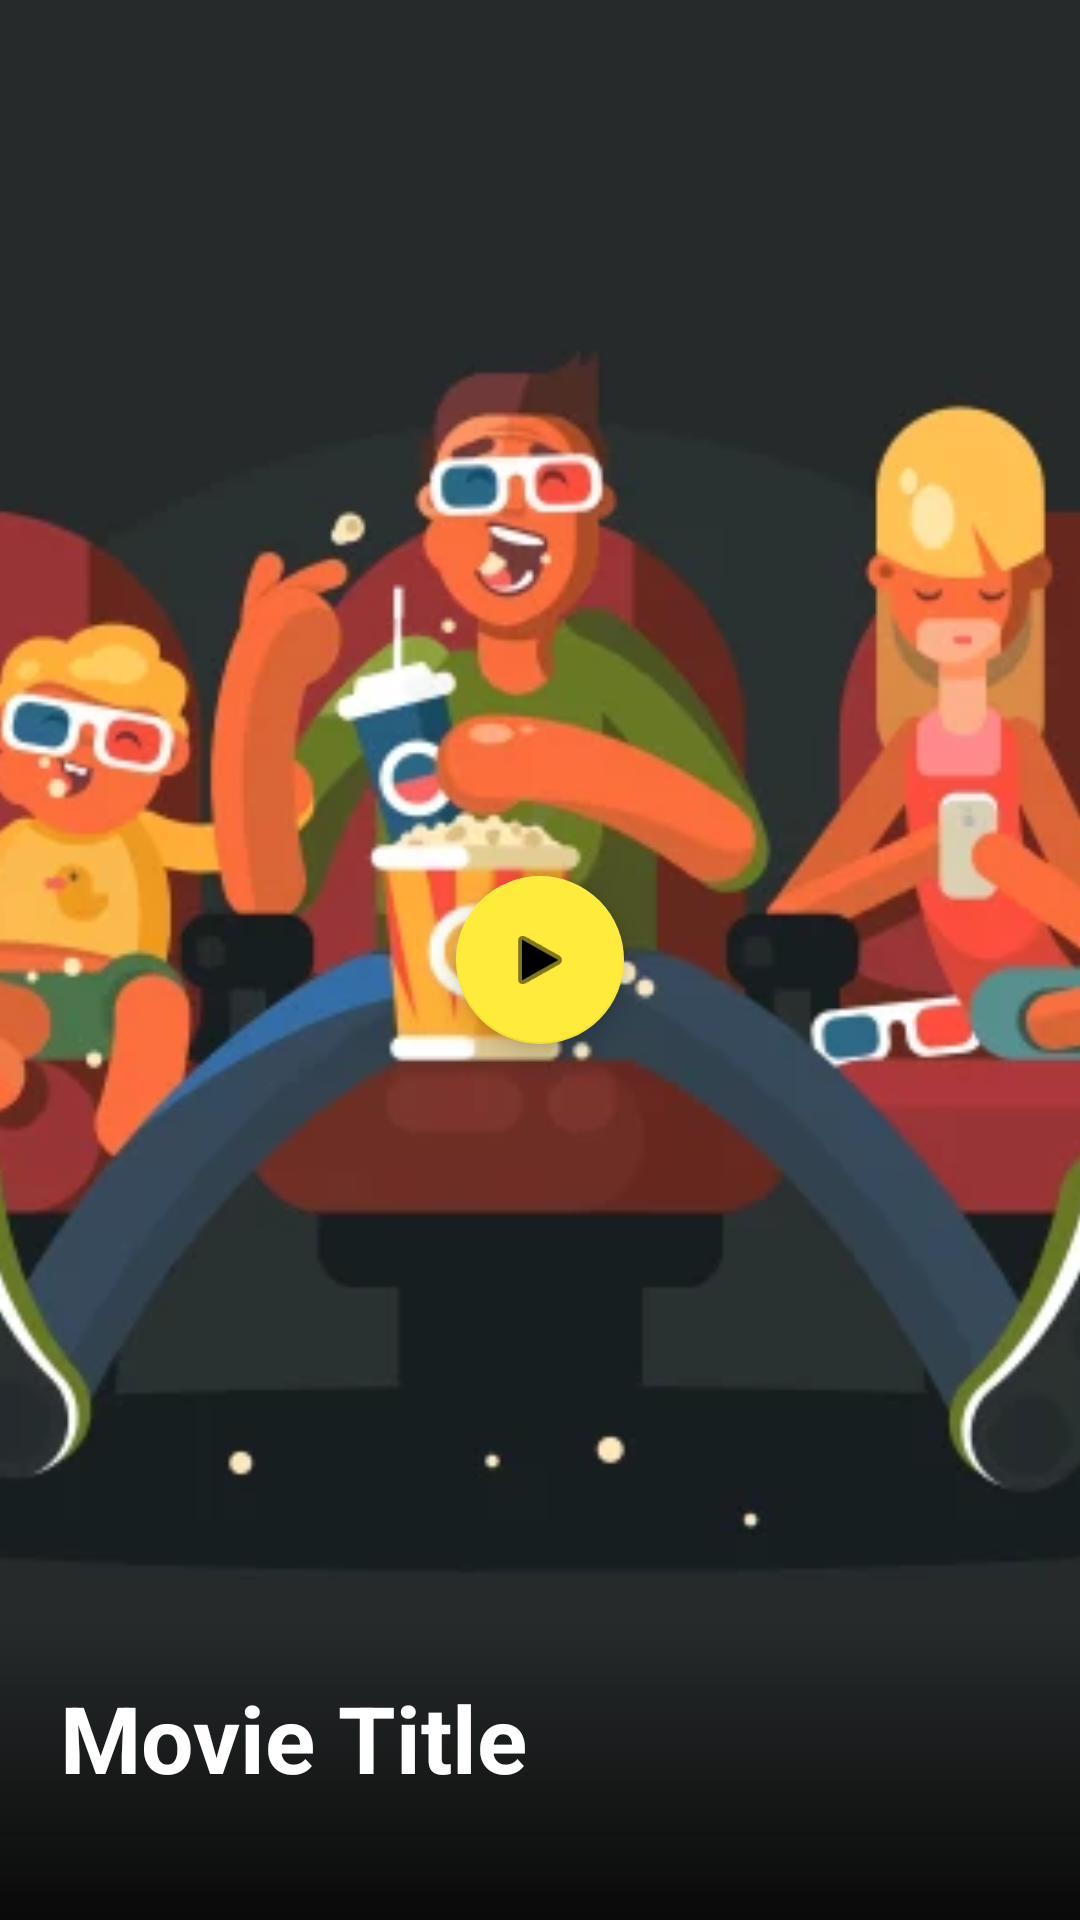

Icons on this 1080px×1920px Android screen, each with the point to tap as (x=x, y=y):
play: (x=540, y=960)
